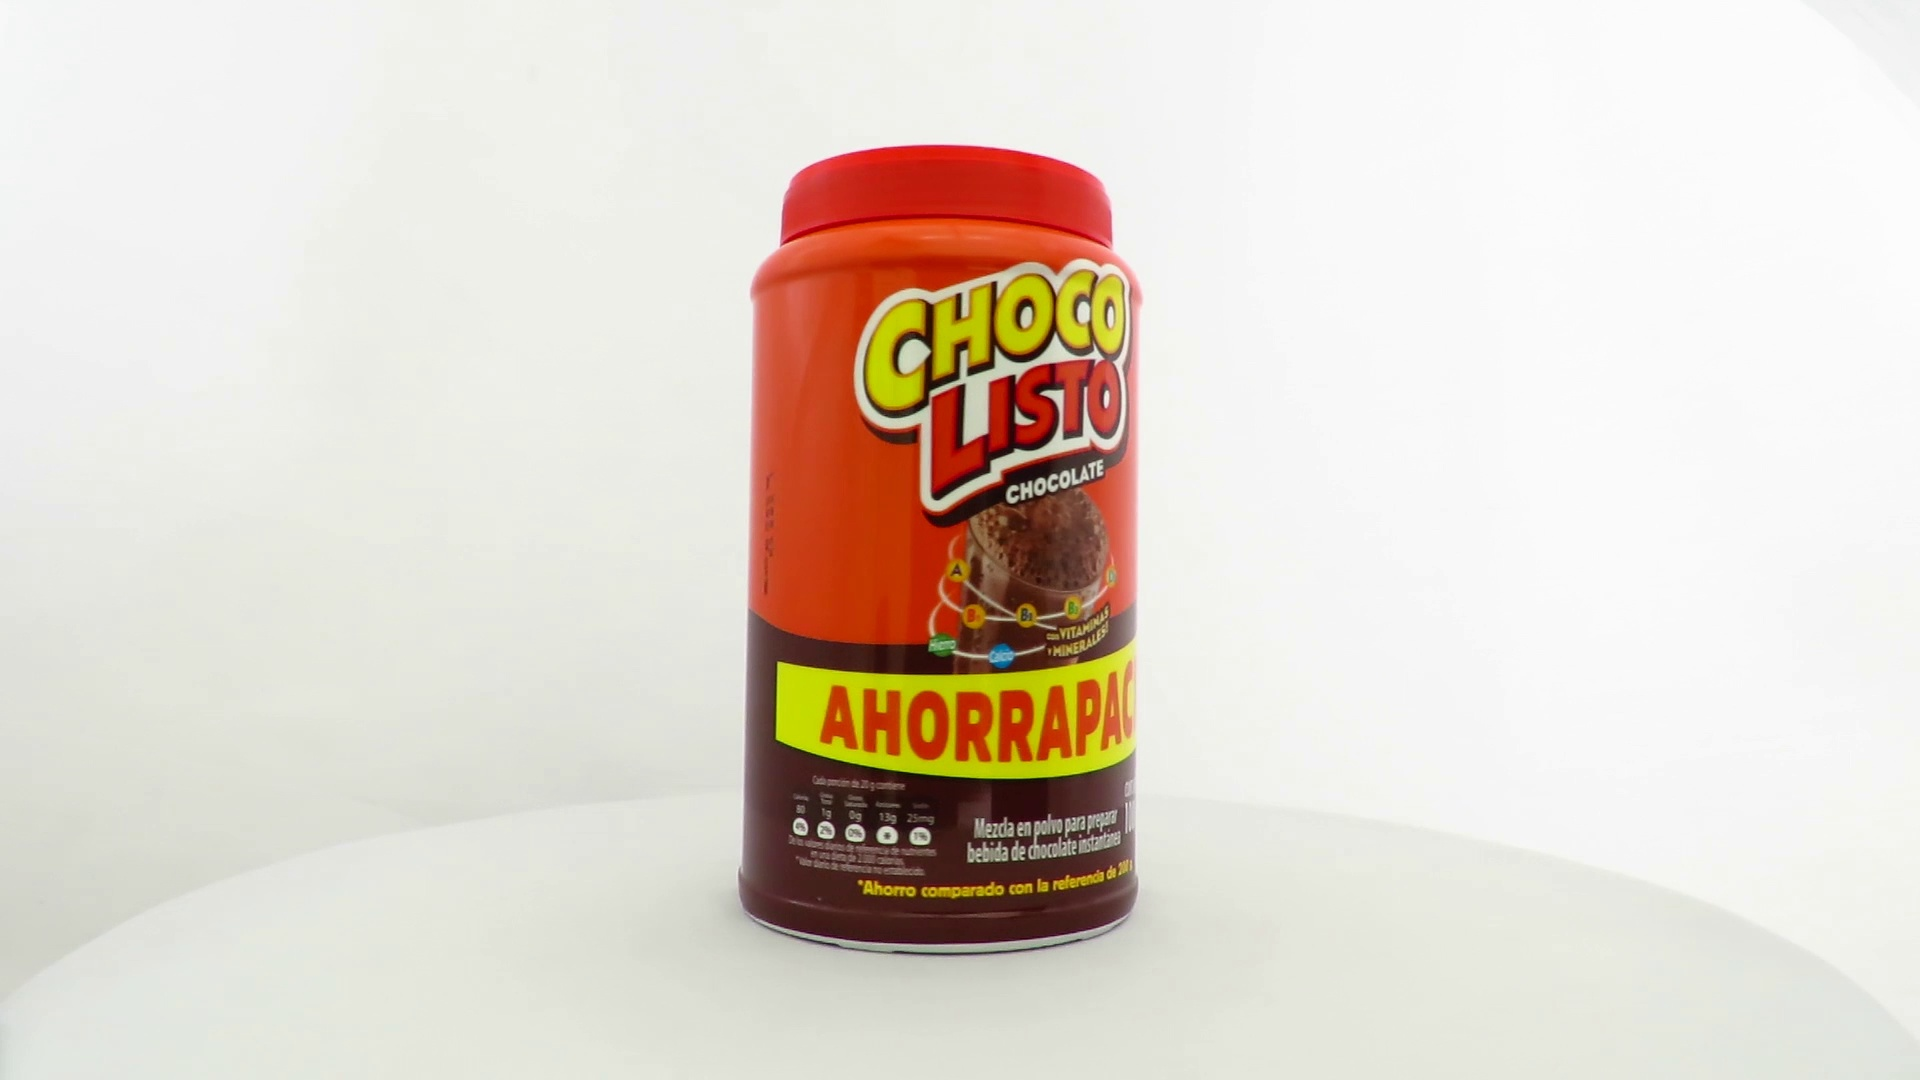COL0170103TRR00100: (733, 138, 1145, 963)
